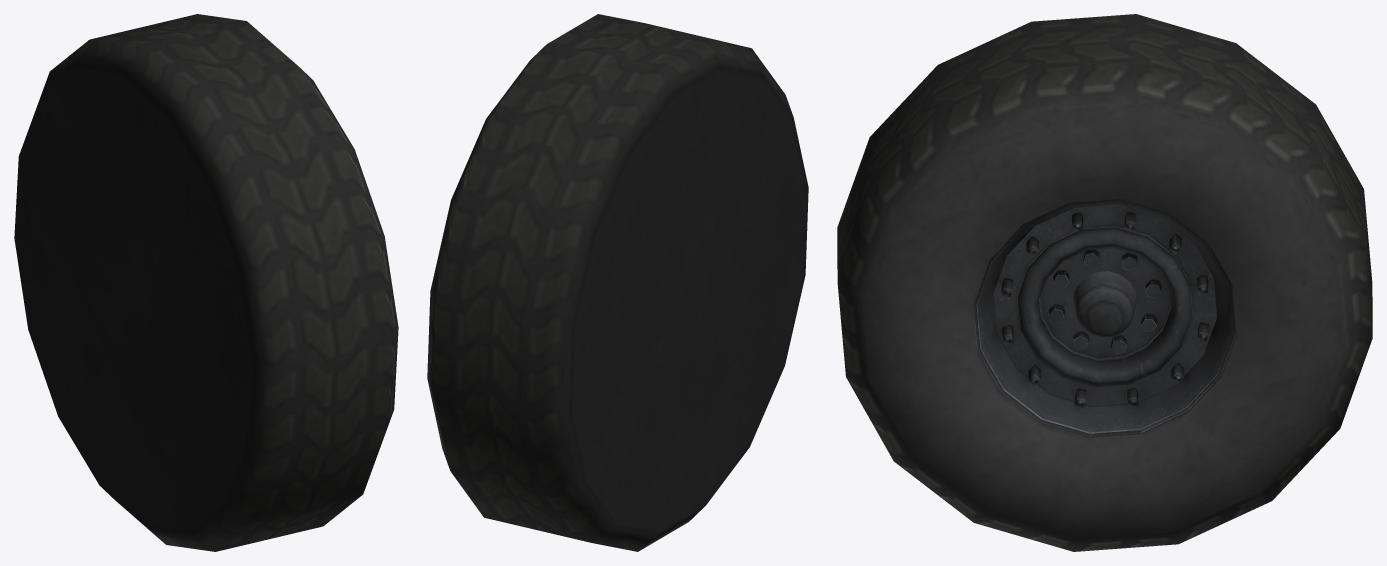
The model's file is Vehicle_M1101Trailer_RightWheel.fbx.
The picture shows the model from 3 angles, left to right: view 1: azimuth 30°, elevation 25°; view 2: azimuth 150°, elevation 25°; view 3: azimuth 270°, elevation 25°; orthographic projection. The views are drawn at different scales.
Visible parts, largest first — view 1: Tire; view 2: Tire; view 3: Tire.
Boxes of the visible parts, x1=… form: Tire: x1=14, y1=14, x2=398, y2=551; Tire: x1=427, y1=14, x2=808, y2=551; Tire: x1=837, y1=14, x2=1372, y2=551.
Bounding box in the file's own units: 22.24 × 63.79 × 63.71.
